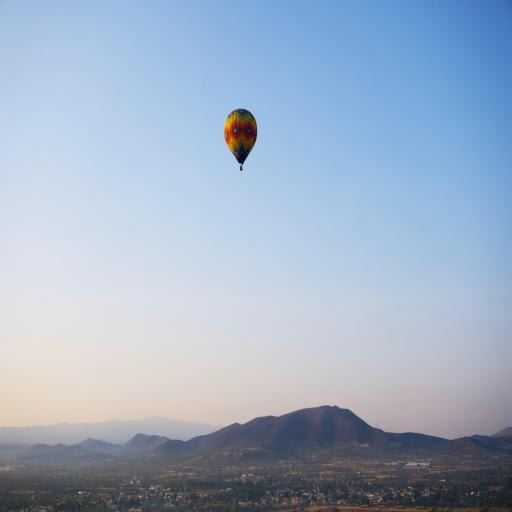hot air ballon: (224, 109, 257, 171)
